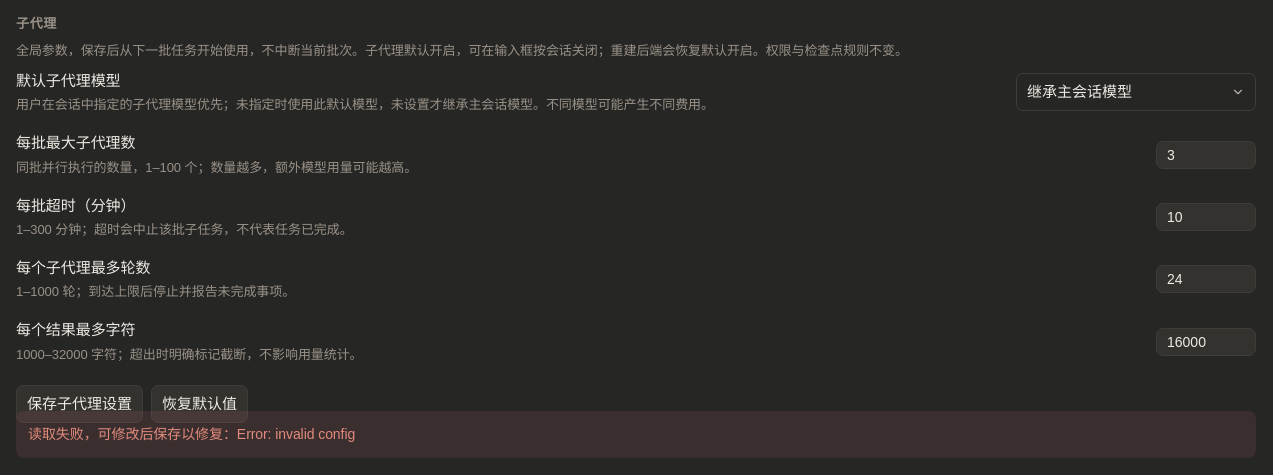
Test: SubagentSettings › allows explicit repair after a load failure without automatically saving defaults
Expected: the message shows "可修改后保存以修复", x1=28 y1=426 x2=355 y2=442
Click the dropdown named "默认子代理模型". click: click(1136, 92)
box: x1=1016 y1=73 x2=1256 y2=111
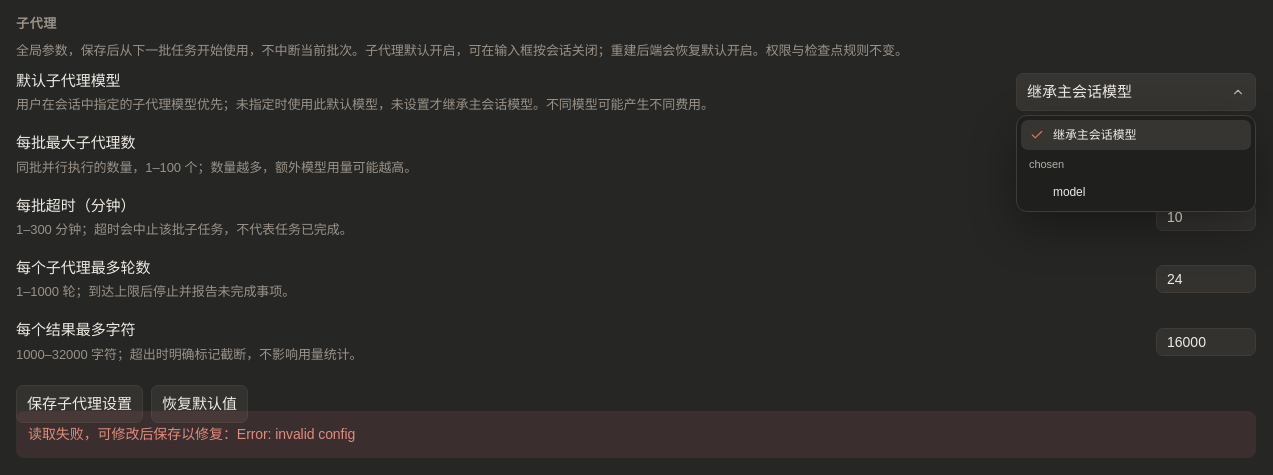
Click the option "model". click: click(1069, 192)
box: x1=1053 y1=185 x2=1085 y2=199
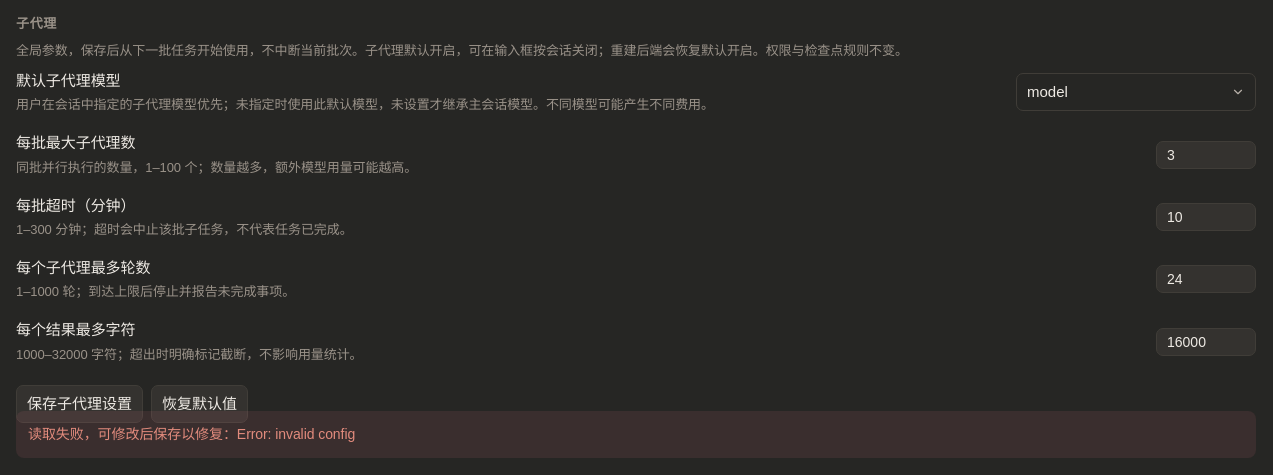
Click the button "保存子代理设置". click: click(80, 404)
box: x1=16 y1=385 x2=143 y2=423
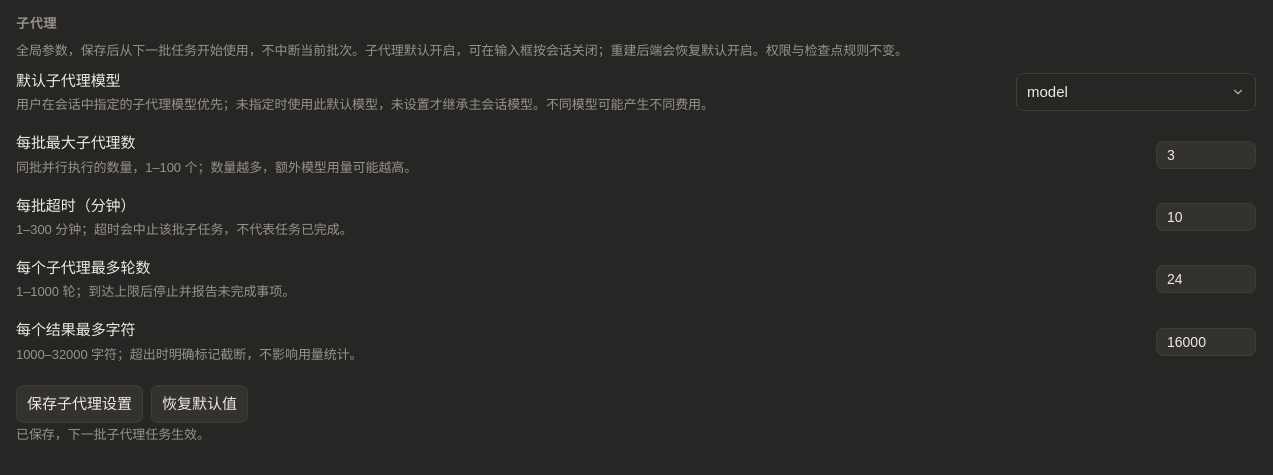
Result: the message shows "下一批" at x1=16 y1=427 x2=210 y2=442
